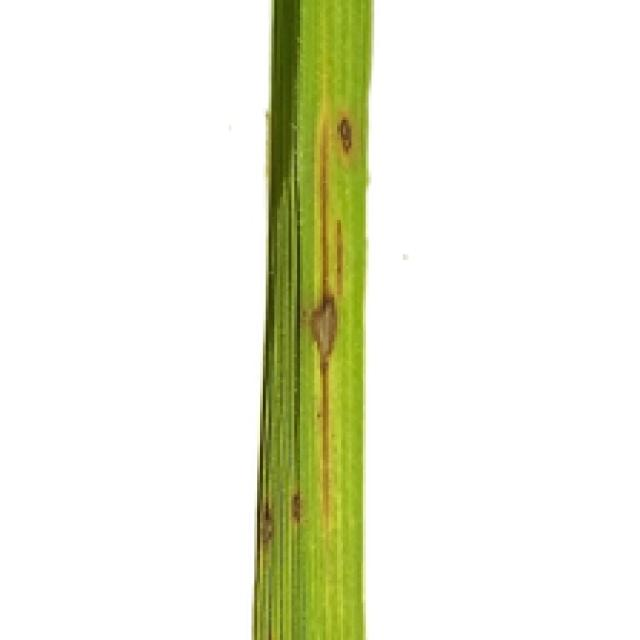Rice___Rice_Blast: (253, 0, 373, 637)
